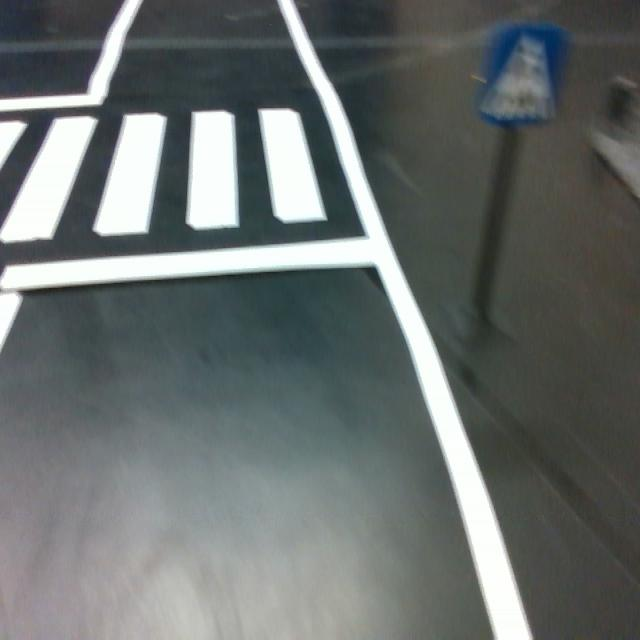crosswalk-sign: (472, 21, 574, 130)
